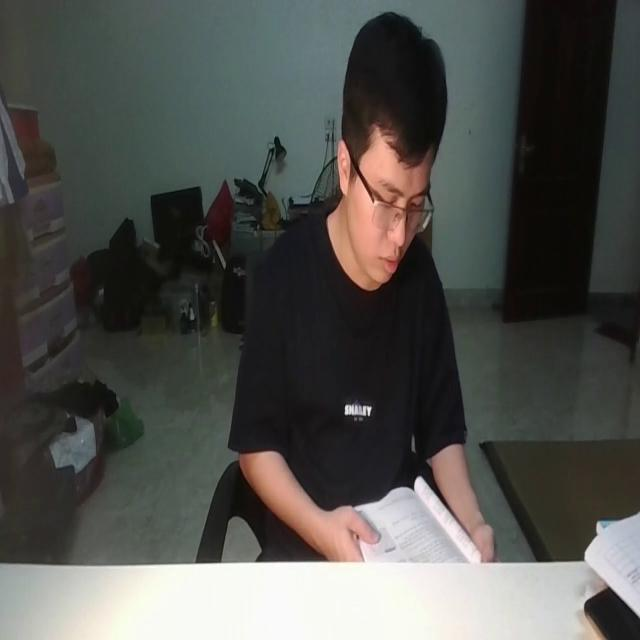book: (341, 472, 483, 564)
student: (228, 4, 497, 564)
